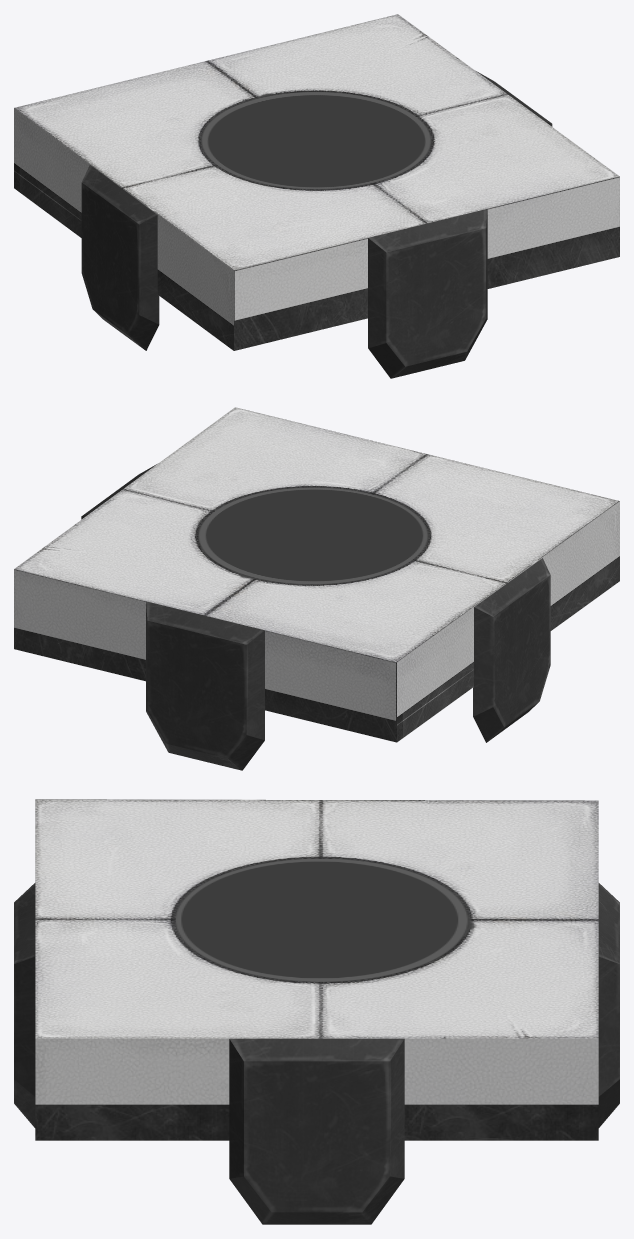
File: MOD_Platforme_2.fbx
The picture shows the model from 3 angles, top to bottom: view 1: azimuth 30°, elevation 25°; view 2: azimuth 150°, elevation 25°; view 3: azimuth 270°, elevation 25°; orthographic projection. The views are drawn at different scales.
Visible parts, largest first — view 1: polySurface5; view 2: polySurface5; view 3: polySurface5.
Part boxes in pixels (<box>): polySurface5: <box>14,14,619,378</box>; polySurface5: <box>14,407,619,770</box>; polySurface5: <box>14,799,619,1224</box>.
Bounding box in the file's own units: 1076 × 364 × 1076.
